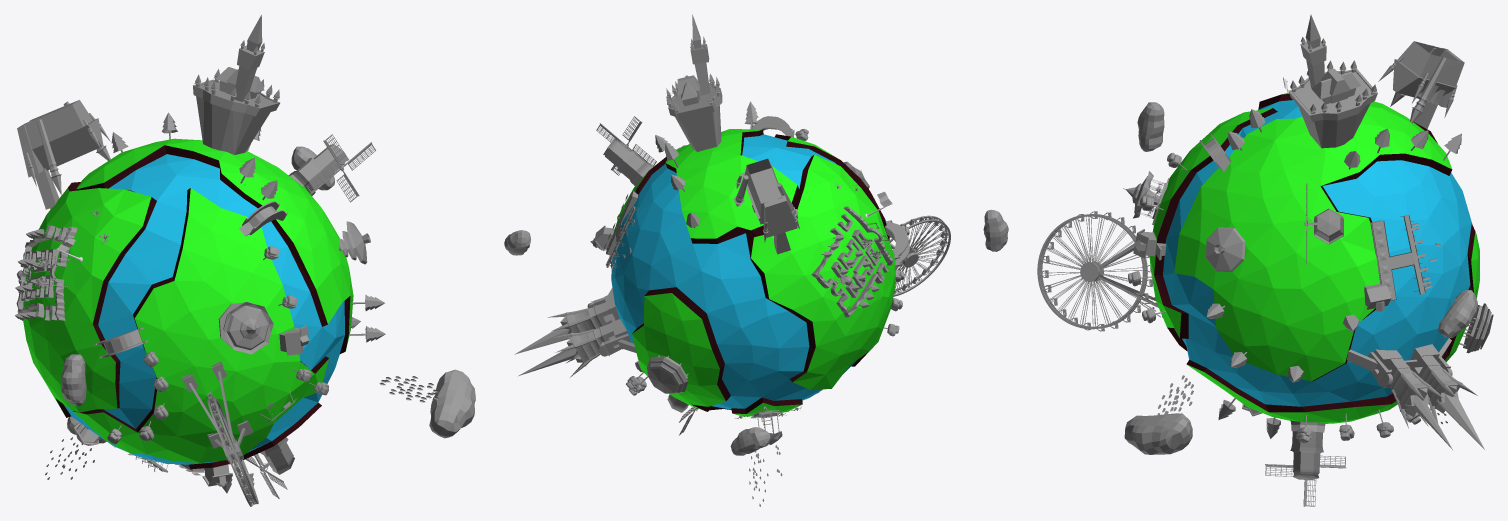
Rendered from xingqiu.FBX.
3 views of the same model, side by side, from view 1: azimuth 30°, elevation 25°; view 2: azimuth 150°, elevation 25°; view 3: azimuth 270°, elevation 25° (orthographic). The views are drawn at different scales.
Visible parts, largest first — view 1: qiuti002, Object020, yudi078, Box214, Cylinder046, Object030, 对象002, fengche003, Object018, fengche004, yudi079, Object019 (+6 smaller); view 2: qiuti002, Object020, Box215, Cylinder046, Object030, fengche003, Box214, Box224, Object031, yudi075, Object018, yudi079 (+3 smaller); view 3: qiuti002, Cylinder046, Object020, Box215, yudi078, Box214, fengche004, Cylinder045, Box104, yudi080, Object018, Object016 (+11 smaller).
Boxes of the visible parts, left/top/right/bottom form: qiuti002: left=23, top=138, right=353, bottom=469; Object020: left=17, top=100, right=110, bottom=209; yudi078: left=379, top=369, right=475, bottom=438; Box214: left=196, top=82, right=274, bottom=154; Cylinder046: left=181, top=361, right=258, bottom=506; Object030: left=15, top=227, right=68, bottom=320; 对象002: left=218, top=302, right=273, bottom=354; fengche003: left=288, top=134, right=375, bottom=202; Object018: left=234, top=15, right=264, bottom=101; fengche004: left=245, top=437, right=294, bottom=498; yudi079: left=61, top=354, right=86, bottom=406; Object019: left=193, top=79, right=279, bottom=116; qiuti002: left=611, top=129, right=895, bottom=416; Object020: left=734, top=158, right=799, bottom=254; Box215: left=560, top=288, right=636, bottom=362; Cylinder046: left=889, top=215, right=950, bottom=296; Object030: left=821, top=214, right=892, bottom=308; fengche003: left=596, top=116, right=656, bottom=186; Box214: left=671, top=84, right=721, bottom=152; Box224: left=646, top=355, right=688, bottom=393; Object031: left=811, top=228, right=882, bottom=317; yudi075: left=730, top=427, right=770, bottom=506; Object018: left=690, top=14, right=709, bottom=95; yudi079: left=983, top=209, right=1008, bottom=251; qiuti002: left=1149, top=92, right=1479, bottom=423; Cylinder046: left=1037, top=211, right=1162, bottom=331; Object020: left=1378, top=41, right=1464, bottom=128; Box215: left=1346, top=338, right=1459, bottom=417; yudi078: left=1124, top=375, right=1193, bottom=454; Box214: left=1292, top=71, right=1371, bottom=148; fengche004: left=1265, top=420, right=1346, bottom=506; Cylinder045: left=1205, top=227, right=1245, bottom=272; Box104: left=1370, top=220, right=1414, bottom=300; yudi080: left=1438, top=290, right=1478, bottom=337; Object018: left=1300, top=14, right=1326, bottom=87; Object016: left=1311, top=68, right=1361, bottom=104.
Size of the model in its own units: 965 by 1062 by 903.
